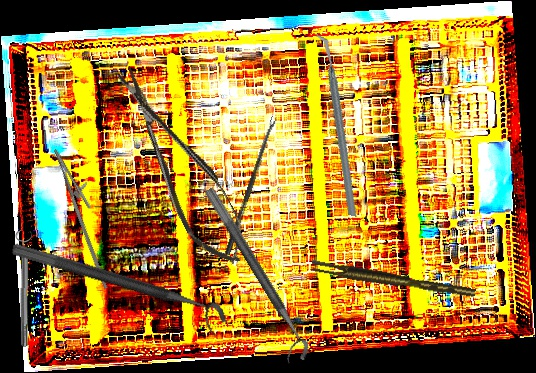Chopper: (270, 33, 402, 218)
Fixation Ring: (190, 186, 315, 368), (5, 241, 232, 339), (13, 230, 35, 347)
Micro Scissor: (105, 53, 257, 277)
Needle Holder: (37, 143, 134, 290)
Surgical Spoon: (224, 116, 278, 256)
Tissue Forceps: (310, 254, 476, 306)
